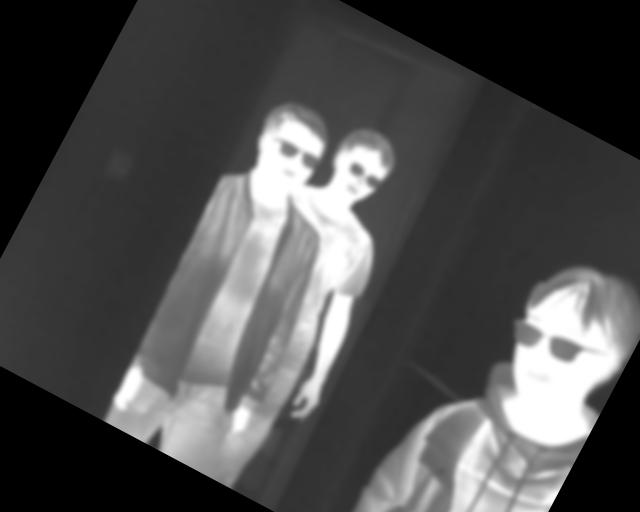face: (487, 243, 640, 433), (238, 91, 339, 203), (317, 118, 405, 214)
